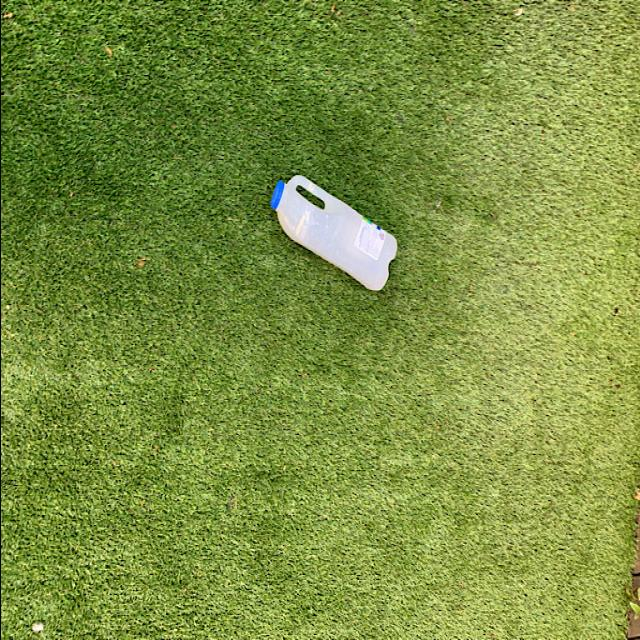HDPEM: (264, 175, 400, 295)
